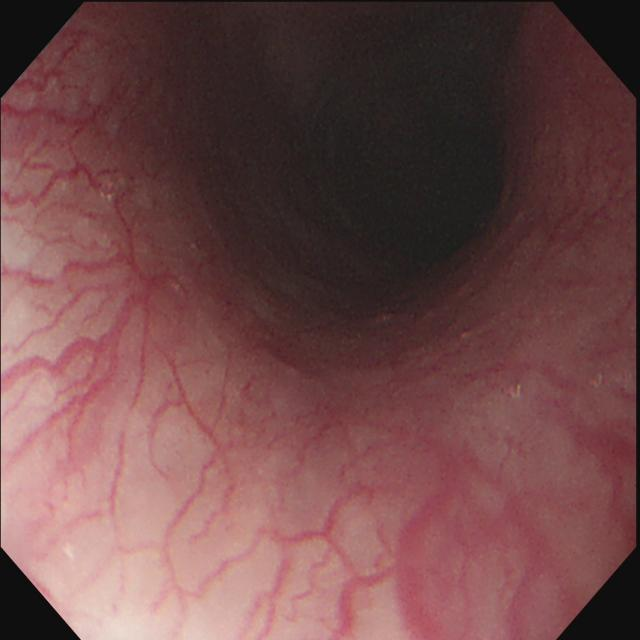E: (338, 71, 486, 253)
